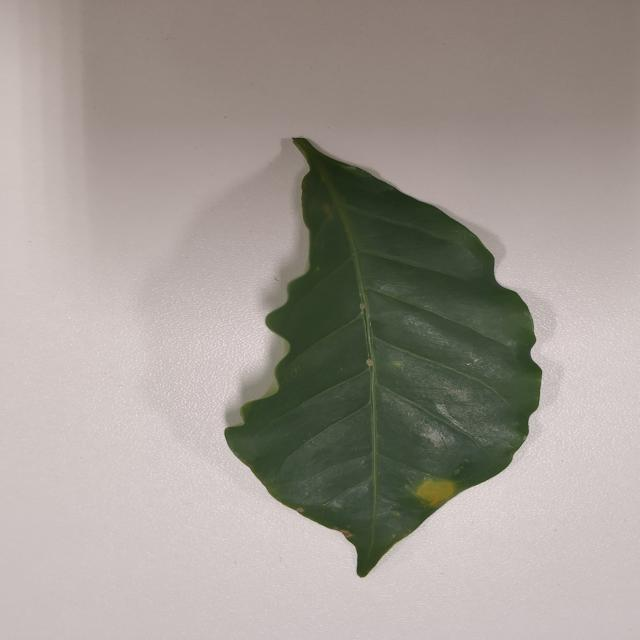Enfermedad-Roya: (223, 138, 542, 580)
